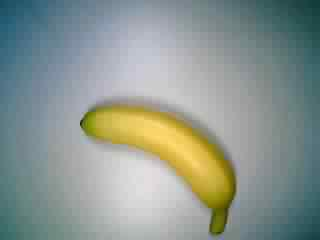banana: (77, 97, 240, 236)
